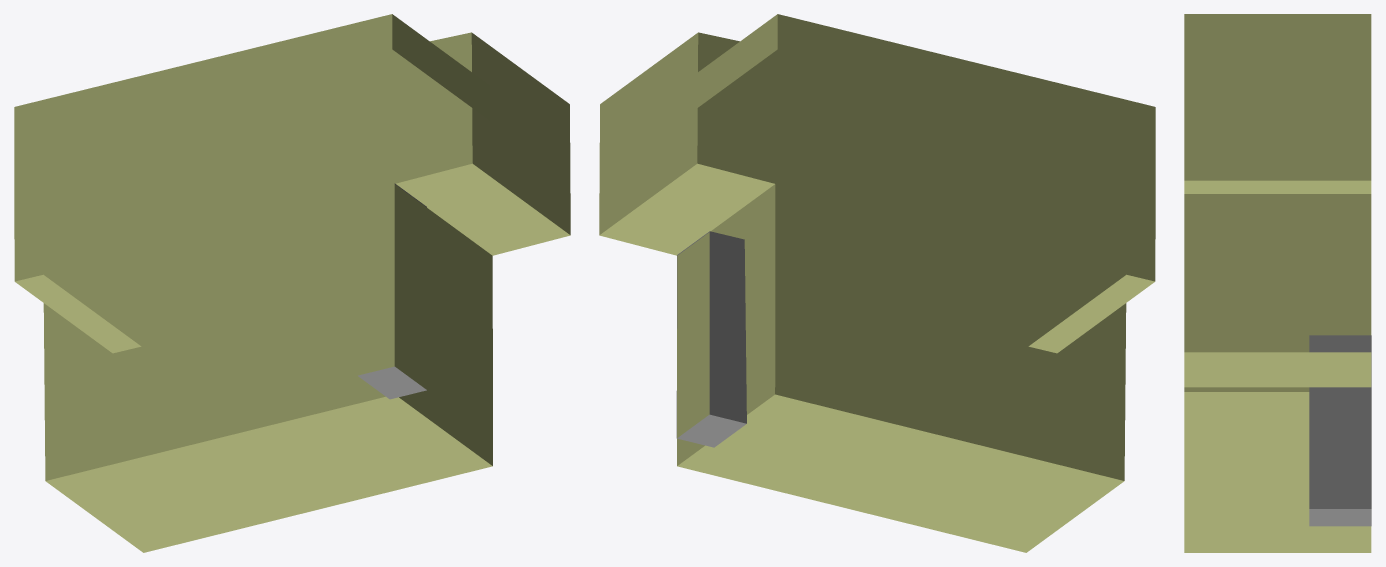
3 views of the same model, side by side, from view 1: azimuth 30°, elevation 25°; view 2: azimuth 150°, elevation 25°; view 3: azimuth 270°, elevation 25° (orthographic). The views are drawn at different scales.
Parts seen in each view (by area): view 1: 0_3_2_0_2_3_0_2; view 2: 0_3_2_0_2_3_0_2; view 3: 0_3_2_0_2_3_0_2.
Boxes of the visible parts, box(x1,y1,x2,y2) form: 0_3_2_0_2_3_0_2: box(14, 14, 570, 552); 0_3_2_0_2_3_0_2: box(599, 14, 1155, 552); 0_3_2_0_2_3_0_2: box(1184, 14, 1371, 552).
Bounding box in the file's own units: 24.27 × 19.35 × 9.02.
